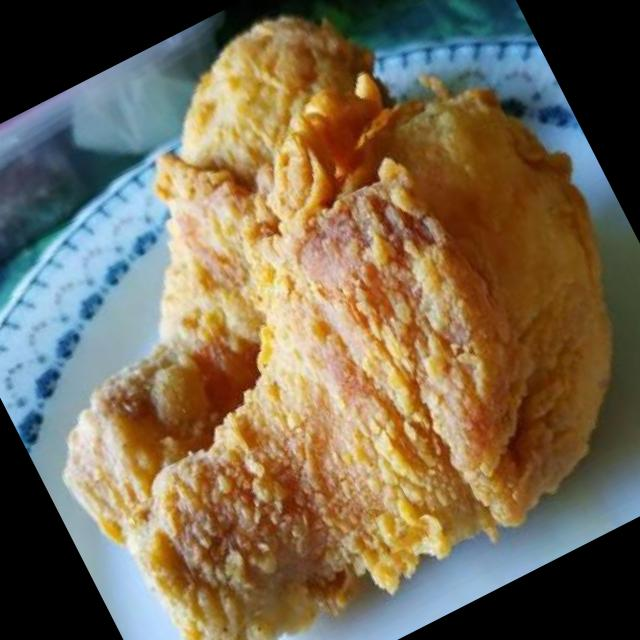Fried Chicken: (63, 15, 618, 640)
